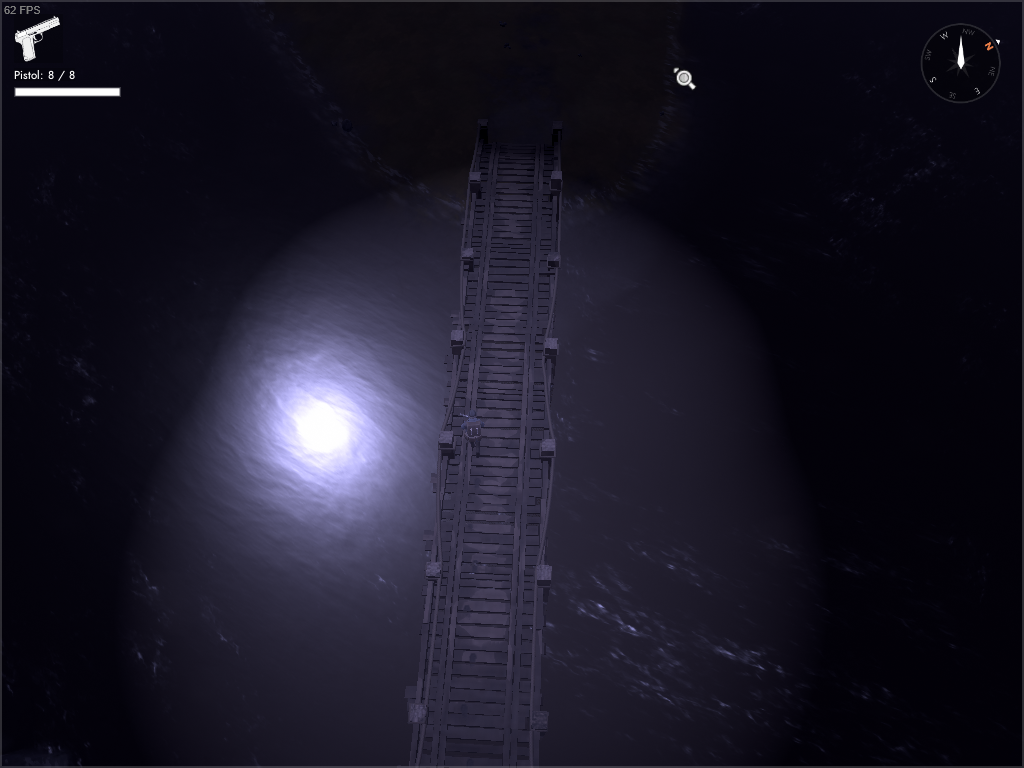player: (456, 408, 490, 461)
